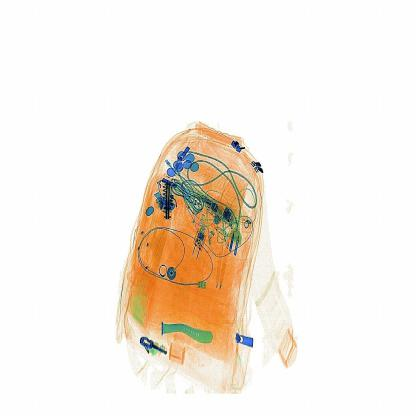scissors: (158, 182, 183, 230)
